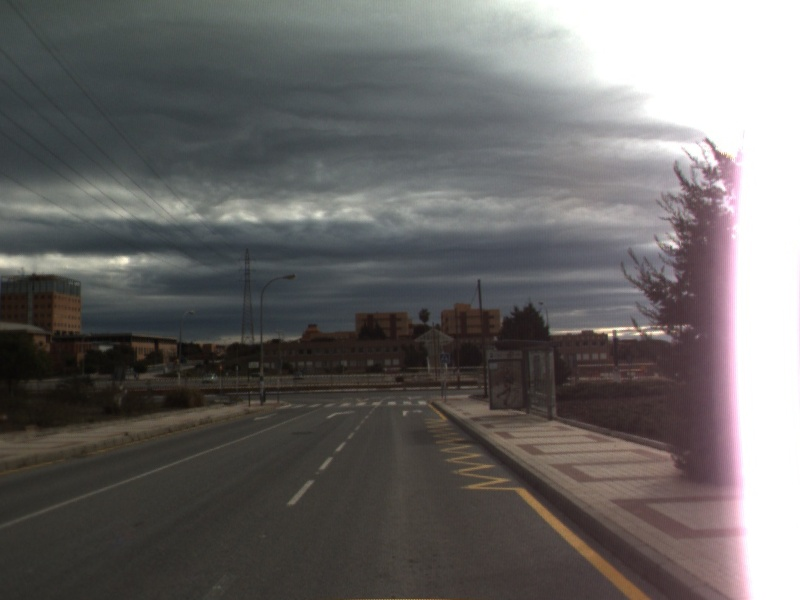RIGHT: (324, 408, 358, 420), (400, 407, 425, 418)
